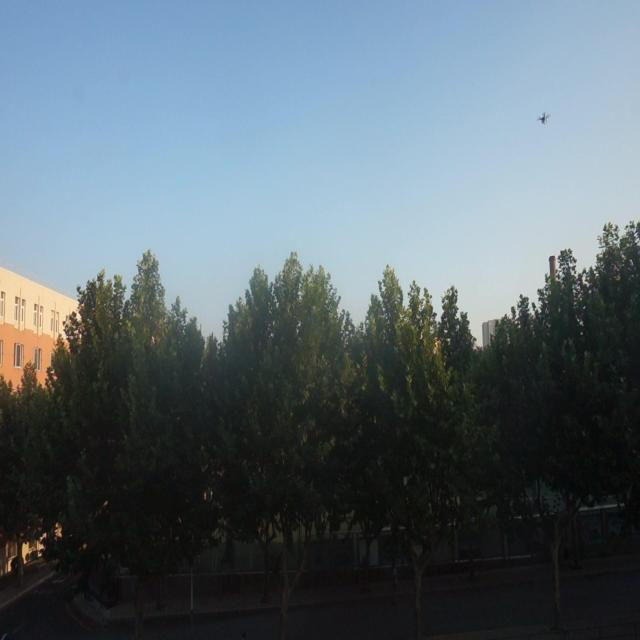drone: (536, 108, 550, 126)
